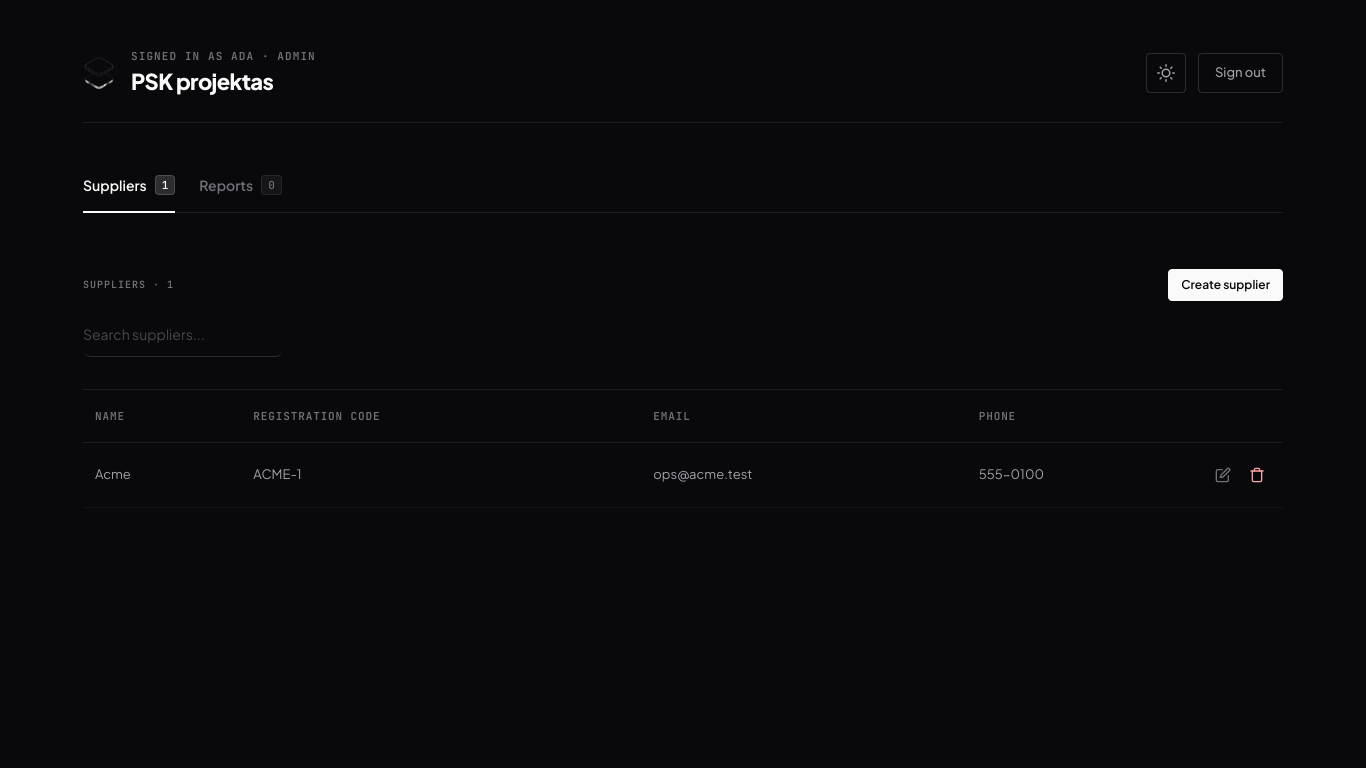
Test: Dashboard › shows an error when the active suppliers report is not a pdf
Click the button "Acme". click: (162, 475)
box: [95,465,229,485]
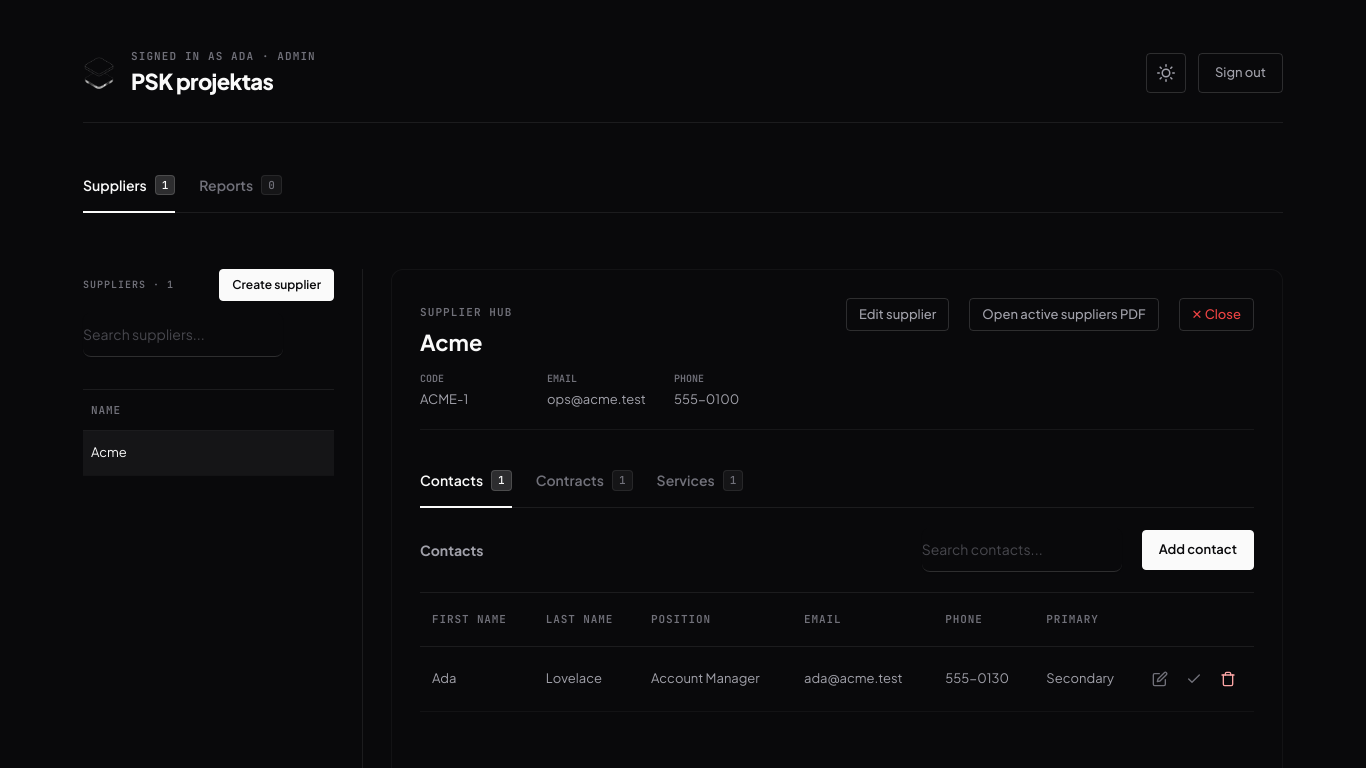
Now the heading "Acme" is shown, box [420,328,482,356]
Click the button "Open active suppliers PDF". click: (1064, 314)
box: [969,298,1158,331]
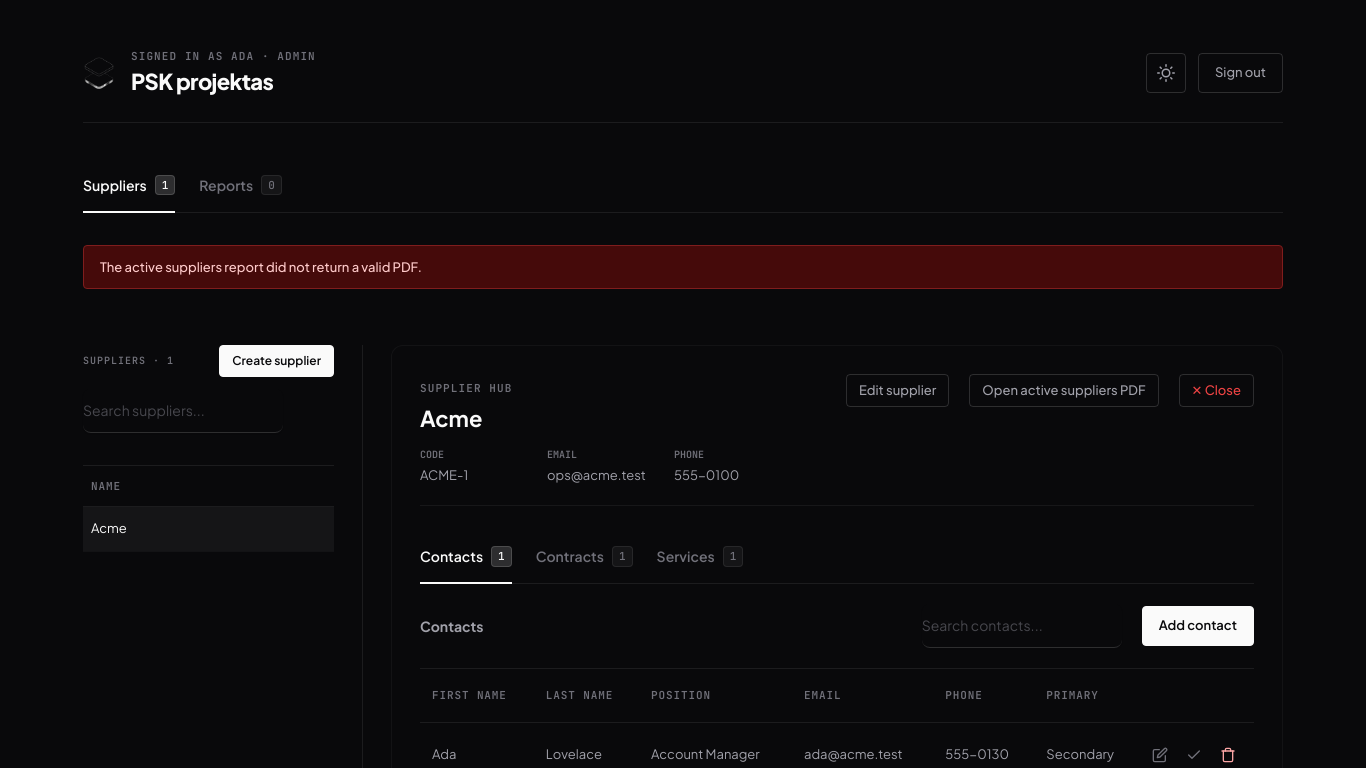
Now the text "The active suppliers report did not return a valid PDF." is shown, box [83,244,1283,289]
